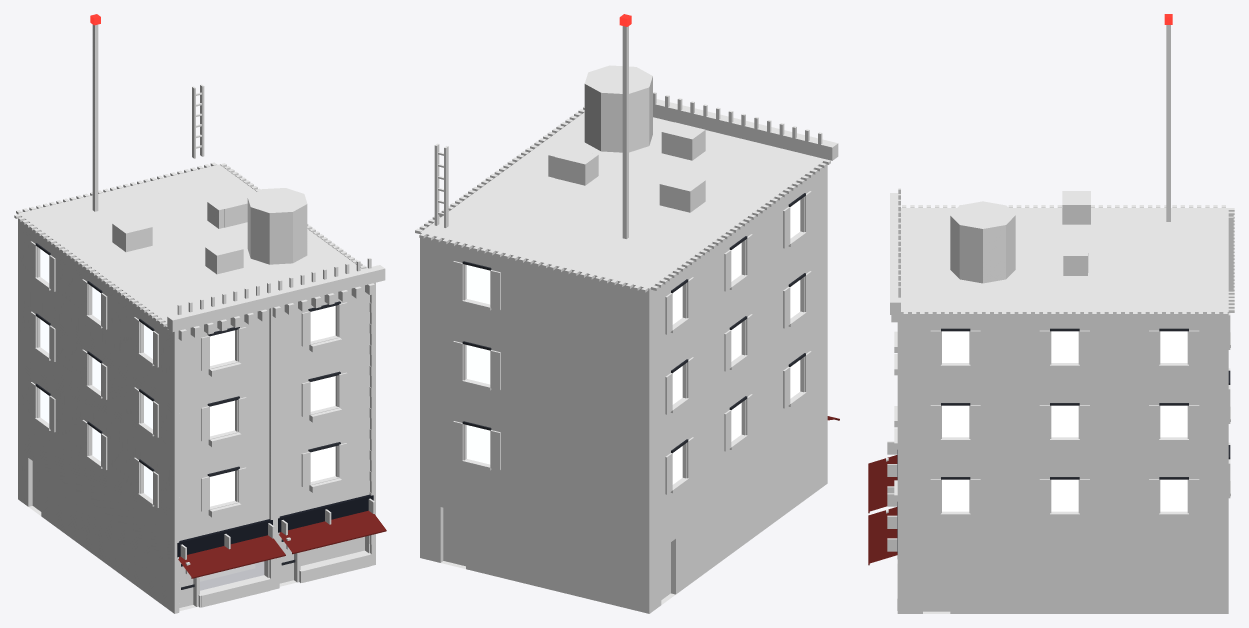
Rendered from bld_market_02_a.glb.
The picture shows the model from 3 angles, left to right: view 1: azimuth 30°, elevation 25°; view 2: azimuth 150°, elevation 25°; view 3: azimuth 270°, elevation 25°; orthographic projection. The views are drawn at different scales.
Visible parts, largest first — view 1: LOD0; view 2: LOD0; view 3: LOD0.
Part boxes in pixels (x1,y1,x2,y2): LOD0: [14, 14, 386, 613]; LOD0: [415, 14, 839, 613]; LOD0: [868, 14, 1234, 613].
Size of what is drawn, in the model's own units: 9.5 by 21 by 13.42.
